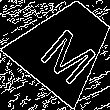M_NE: (31, 13, 100, 81)
